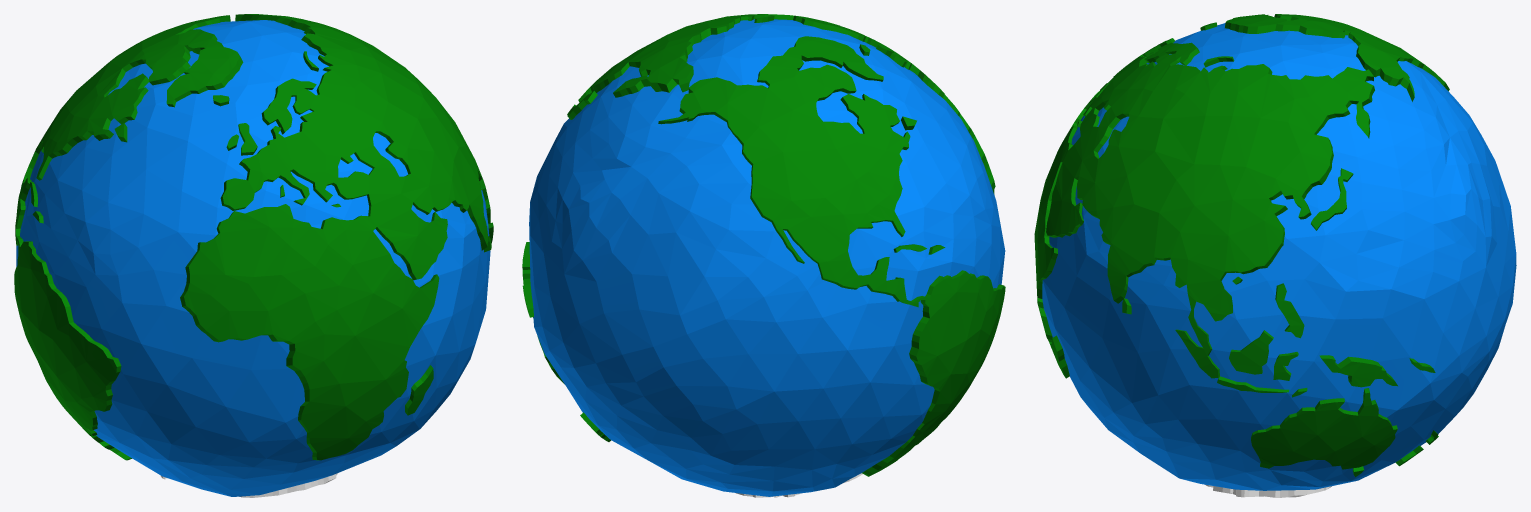
The model's file is Earth.glb.
3 views of the same model, side by side, from view 1: azimuth 30°, elevation 25°; view 2: azimuth 150°, elevation 25°; view 3: azimuth 270°, elevation 25° (orthographic).
Visible parts, largest first — view 1: Cartoon_lp_Earth2(oceans have more subdivisions); view 2: Cartoon_lp_Earth2(oceans have more subdivisions); view 3: Cartoon_lp_Earth2(oceans have more subdivisions).
Part boxes in pixels (x1,y1,x2,y2): Cartoon_lp_Earth2(oceans have more subdivisions): (14, 14, 493, 497); Cartoon_lp_Earth2(oceans have more subdivisions): (522, 14, 1005, 497); Cartoon_lp_Earth2(oceans have more subdivisions): (1034, 14, 1516, 497).
Bounding box in the file's own units: 1.05 × 1.04 × 1.04.
